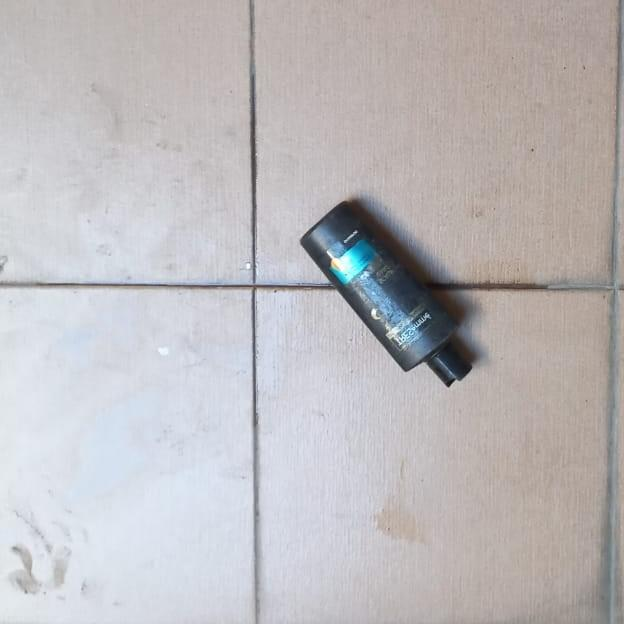Plastik: (300, 200, 473, 388)
